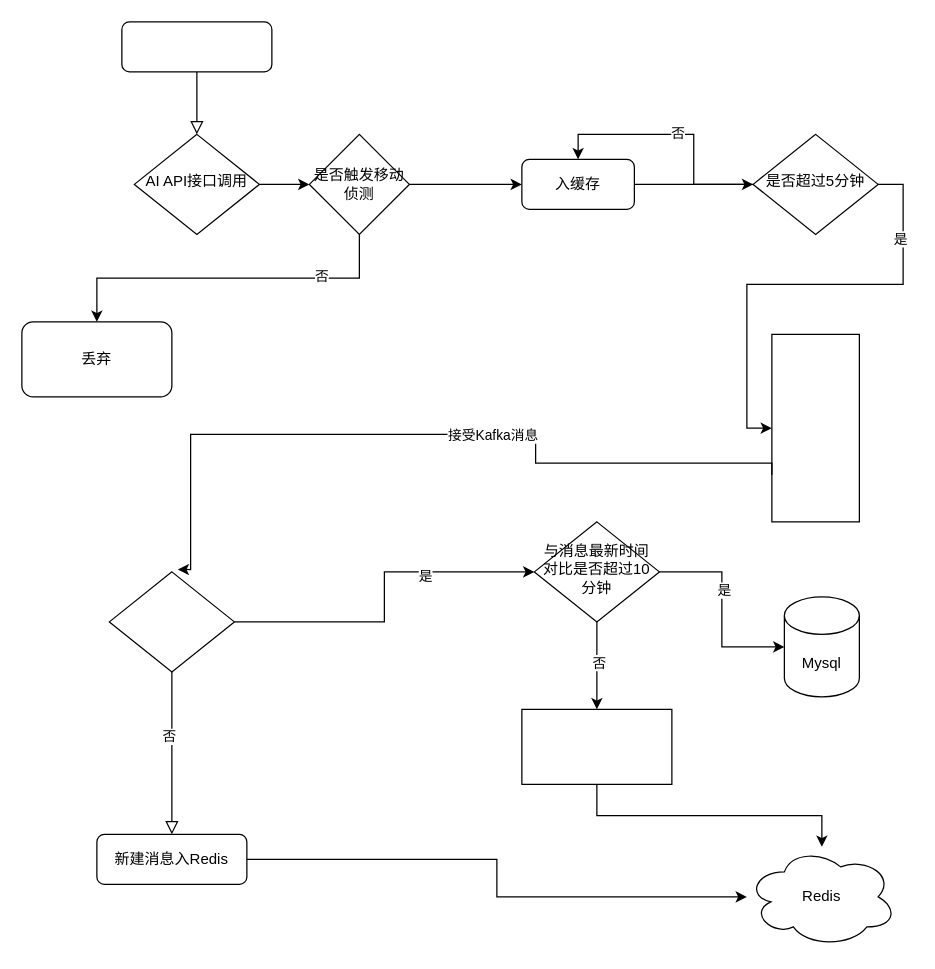
Image size: 935x969. Some labels were removed from this diagram. The box of each missing label's shape, as (x1, y1, x2, y2) in pixels:
Kafka: (771, 333, 859, 522)
开始: (121, 21, 272, 72)
是否在Redis有对应消息: (108, 571, 234, 672)
更新计数后重新入Redis: (521, 708, 672, 784)
